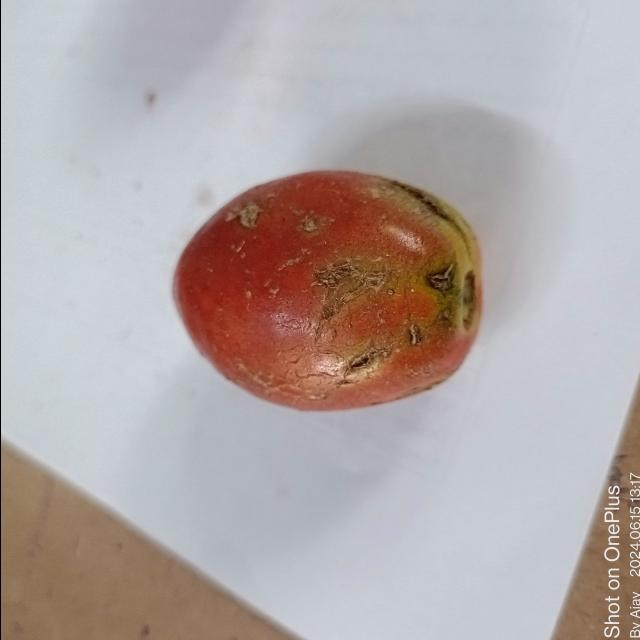Bacterial_Spot: (316, 258, 394, 313), (226, 201, 264, 228), (343, 349, 385, 372), (421, 268, 456, 295), (299, 218, 321, 234), (407, 323, 421, 348), (434, 307, 450, 327)
